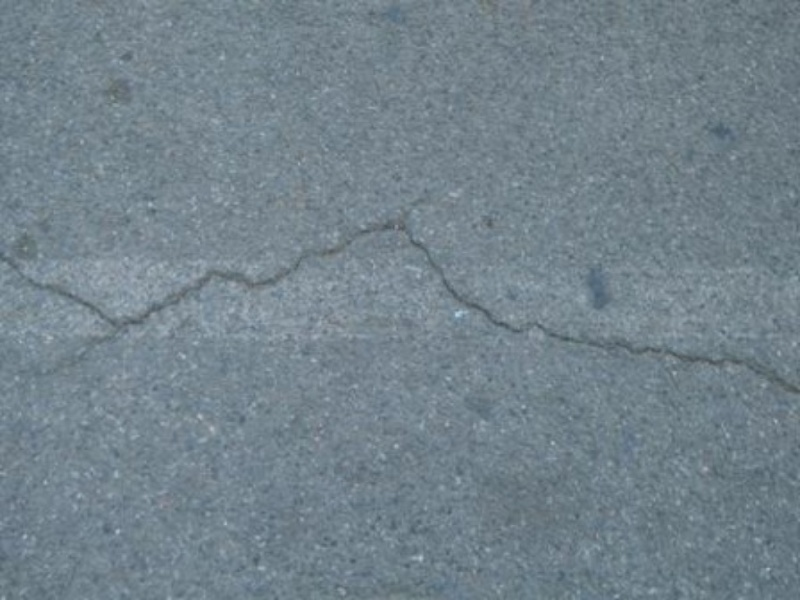crack: (7, 211, 791, 410)
